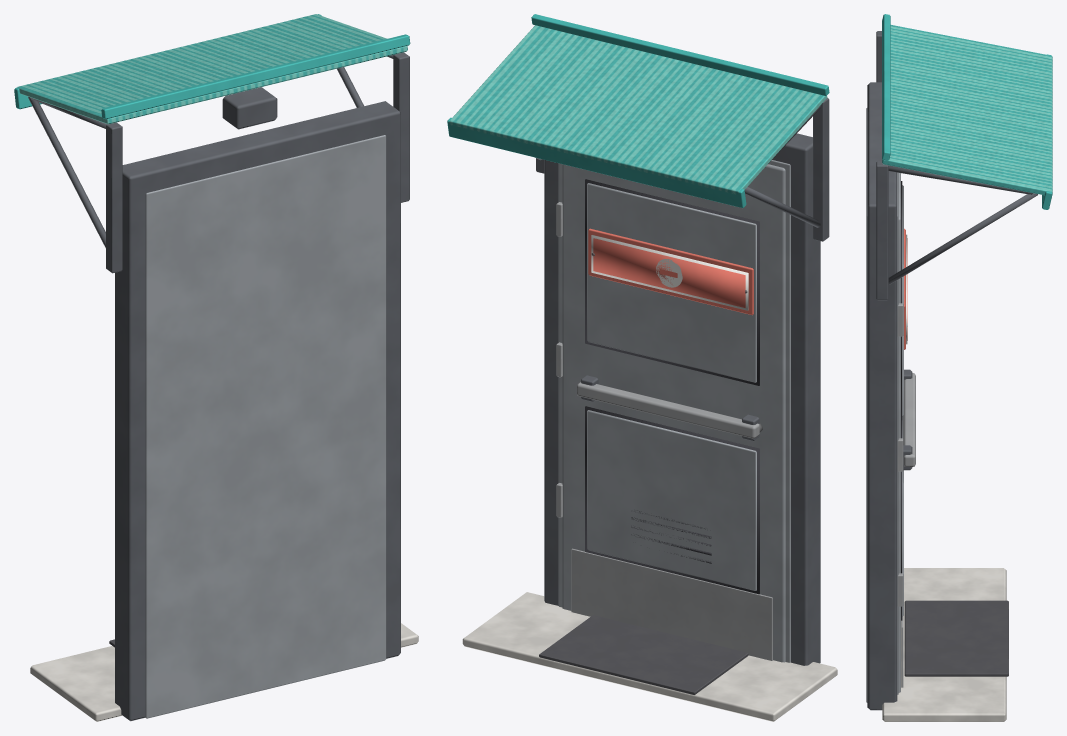
Rendered from Cafe_BackDoor.fbx.
The picture shows the model from 3 angles, left to right: view 1: azimuth 30°, elevation 25°; view 2: azimuth 150°, elevation 25°; view 3: azimuth 270°, elevation 25°; orthographic projection. The views are drawn at different scales.
Parts seen in each view (by area): view 1: Cafe_BackDoor; view 2: Cafe_BackDoor; view 3: Cafe_BackDoor.
Boxes of the visible parts, left/top/right/bottom form: Cafe_BackDoor: left=14, top=14, right=418, bottom=721; Cafe_BackDoor: left=447, top=14, right=837, bottom=721; Cafe_BackDoor: left=866, top=14, right=1052, bottom=721.
Bounding box in the file's own units: 1.4 × 2.52 × 0.7511.
1 material, 1 textured.
